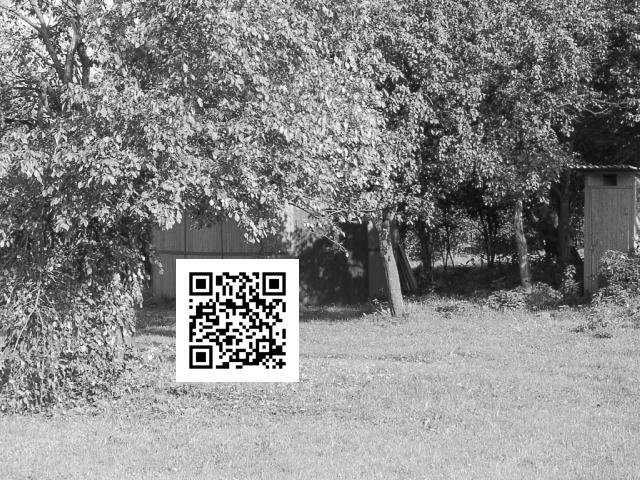qr_code: (176, 257, 300, 382)
